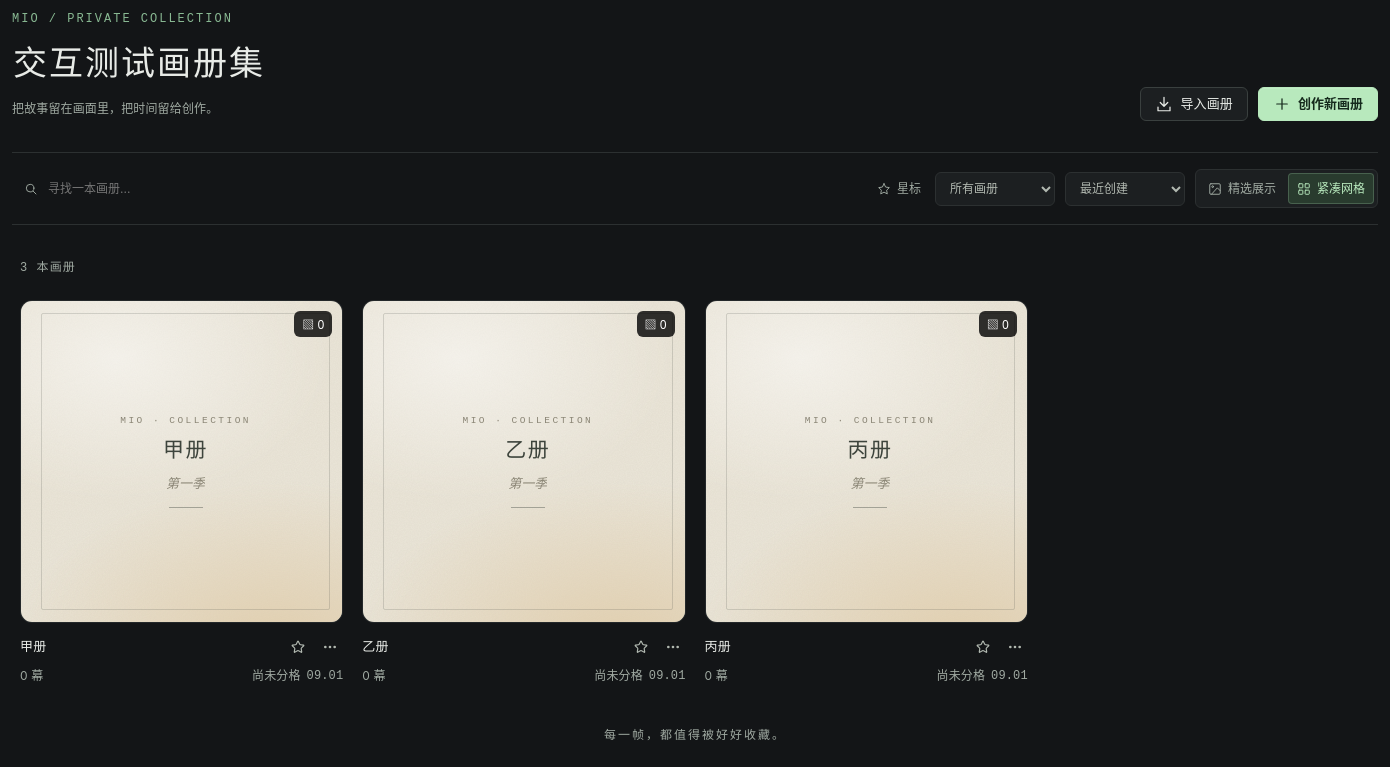
Test: legacy shelf selection › a plain click on a title opens that album and clears an existing selection
Check: the element "甲册" is shown, box [20, 300, 343, 687]
Click the button with aria-label "甲册".
click(182, 462)  # box [20, 300, 343, 623]
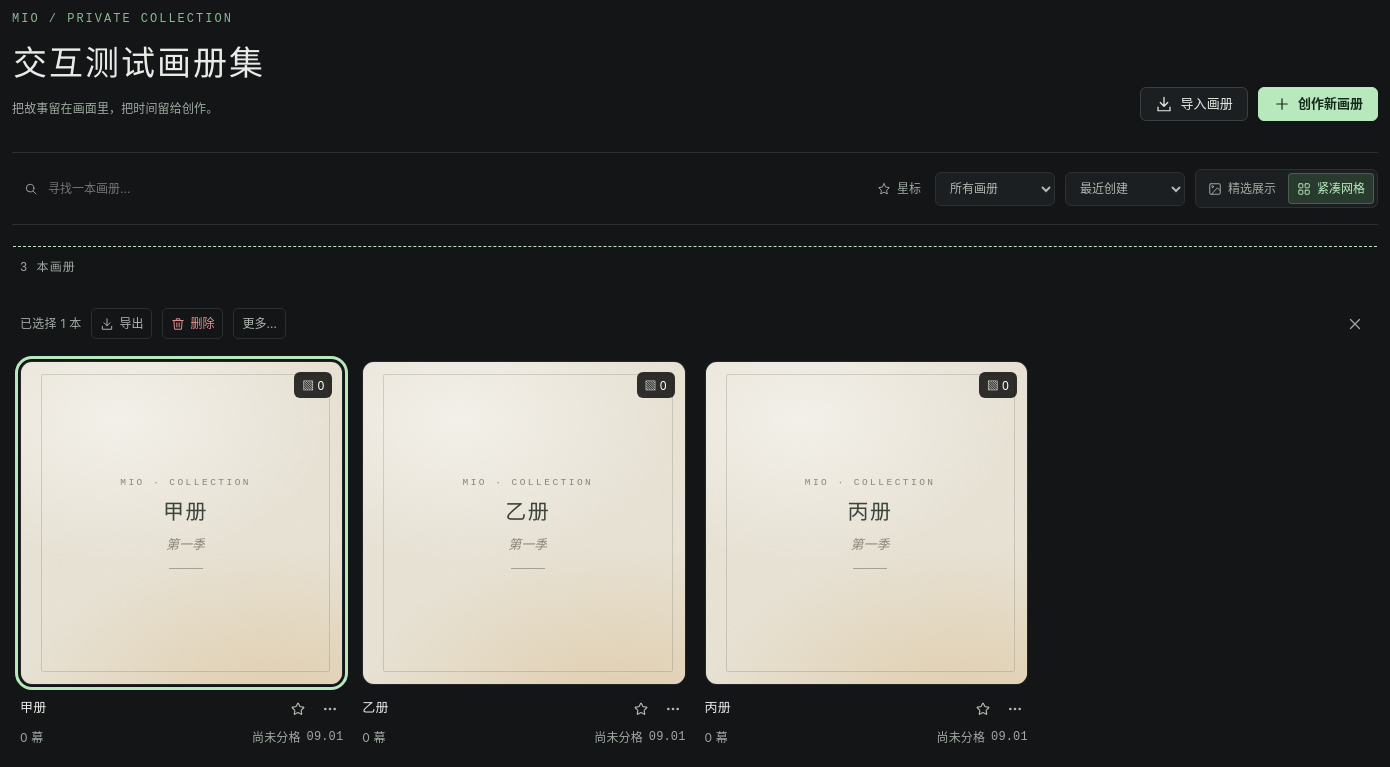
Click the button with aria-label "乙册".
click(524, 523)  # box [362, 361, 686, 685]
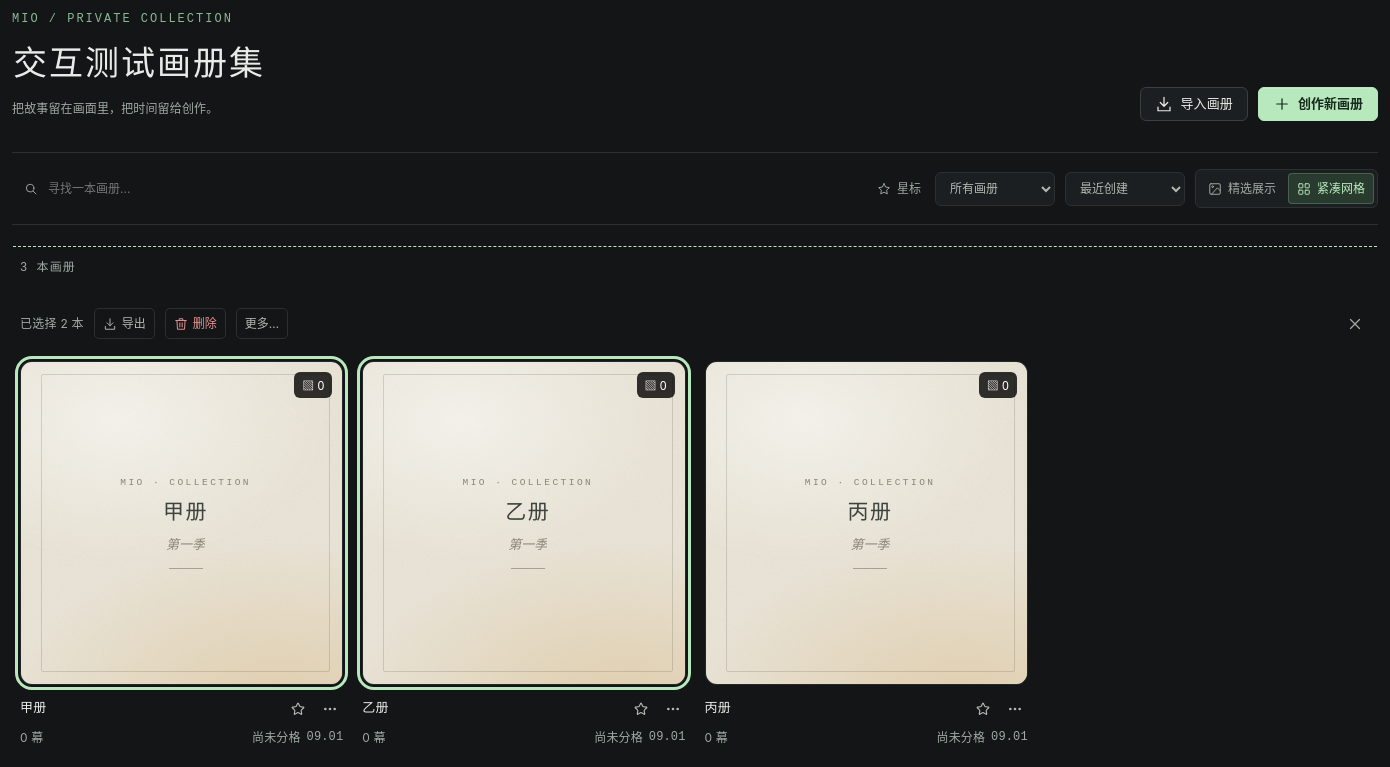
Click the heading "丙册".
click(718, 708)  # box [704, 700, 731, 716]
(page scrolled)
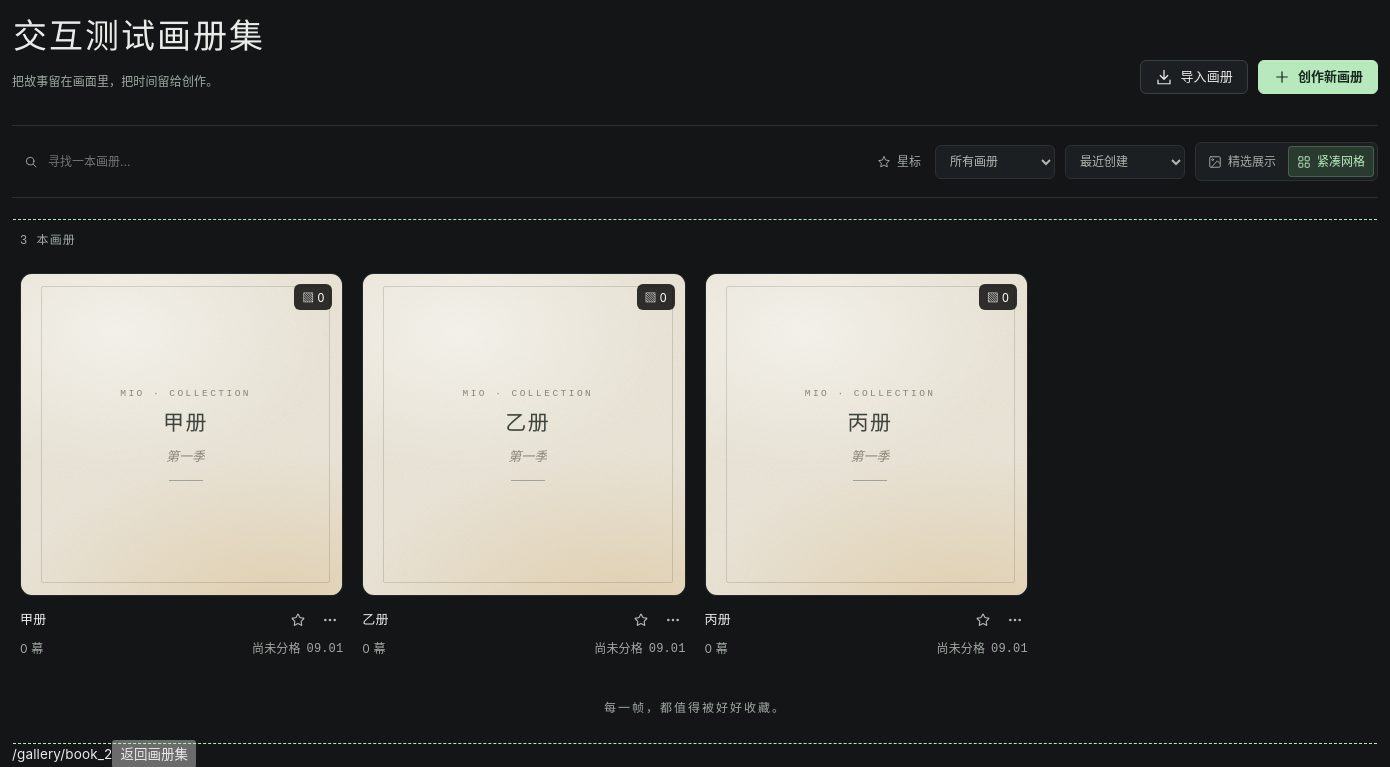
Check: the text named "测试路径" reads "/gallery/book_2", box [12, 746, 112, 762]
